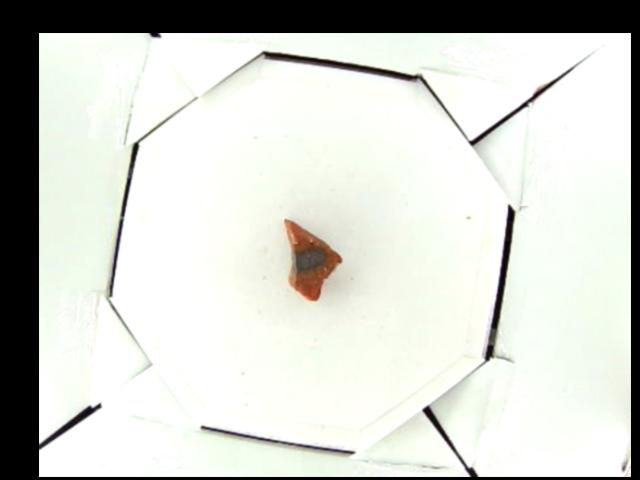Brisk: (281, 217, 342, 301)
